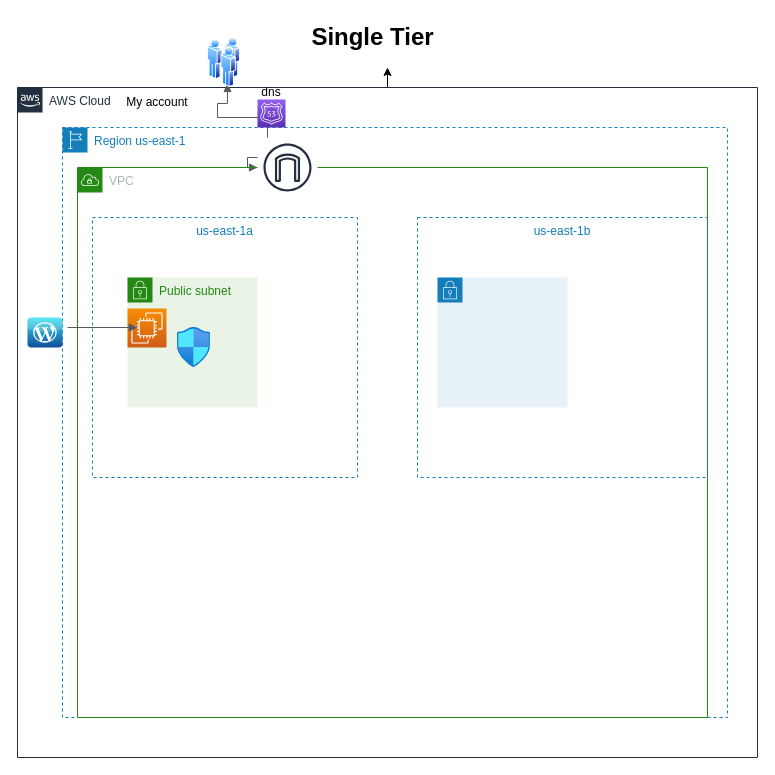
Some shapes in this 775 by 775 pixel diagram are drawn without their labels. Here are the shapes that lost their labels. From the top down, the centre of each, then its label:
the point at 287,167: Internet gateway
the point at 502,342: Private subnet
